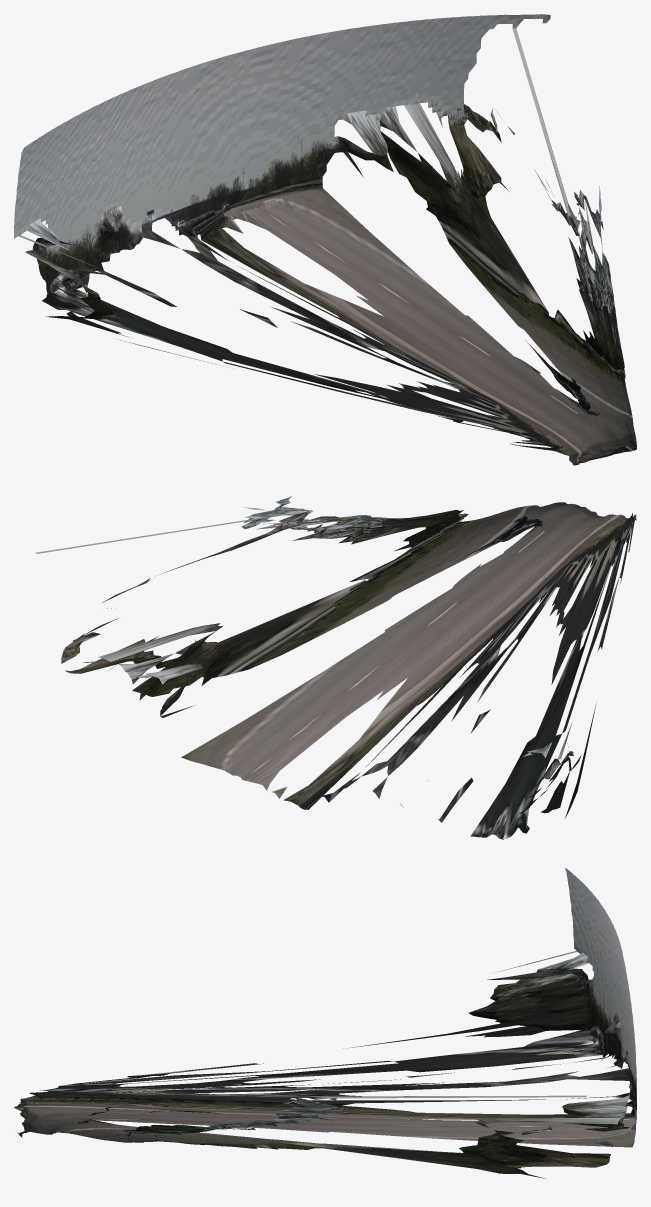
3 renders of one model, top to bottom at view 1: azimuth 30°, elevation 25°; view 2: azimuth 150°, elevation 25°; view 3: azimuth 270°, elevation 25°, orthographic. The views are drawn at different scales.
Parts seen in each view (by area): view 1: defaultobject; view 2: defaultobject; view 3: defaultobject.
Boxes of the visible parts, x1=… form: defaultobject: x1=14, y1=14, x2=636, y2=465; defaultobject: x1=35, y1=496, x2=636, y2=839; defaultobject: x1=14, y1=868, x2=636, y2=1178.
Size of the model in its own units: 39.55 by 13.39 by 44.7.
1 material, 1 textured.
